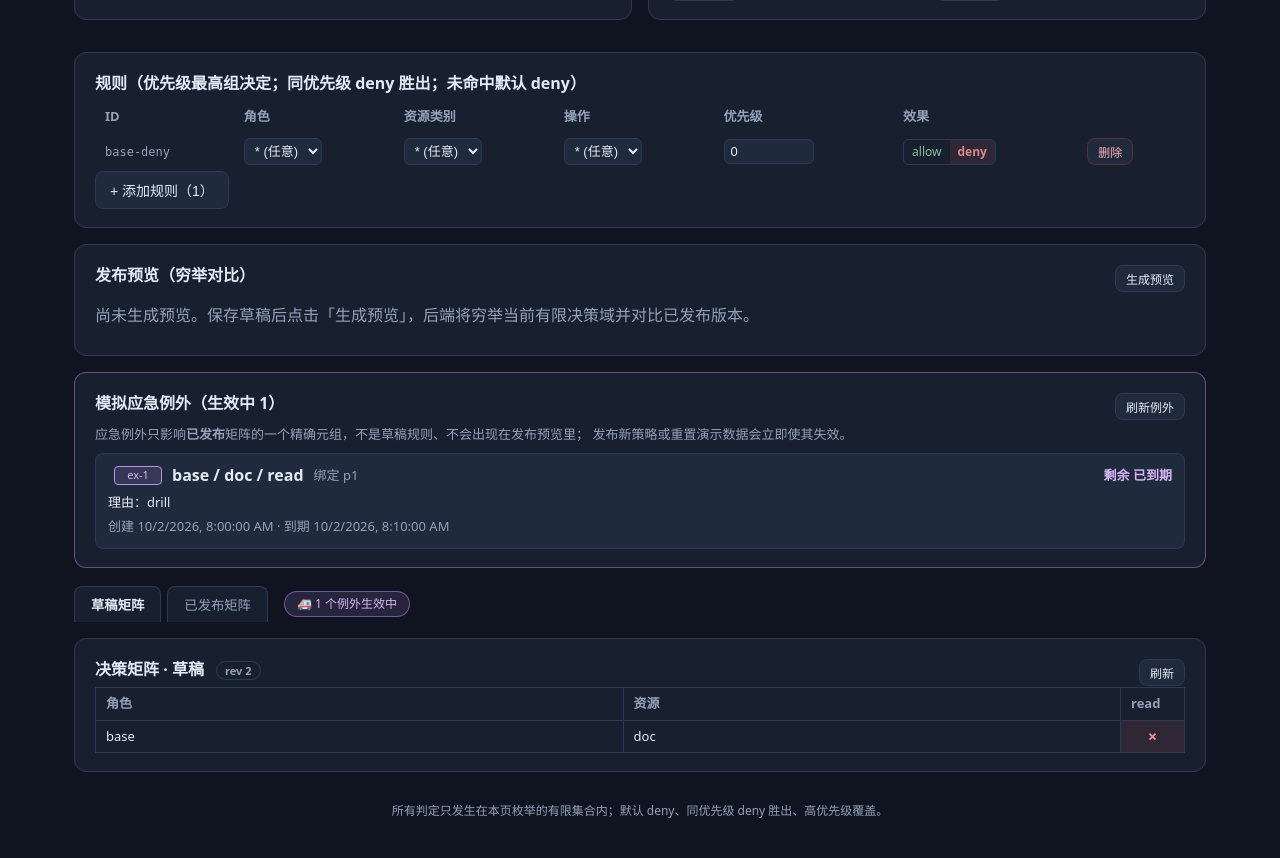
Test case: App — exception panel + matrix coherence › publishing a new policy immediately invalidates old exceptions
(page scrolled)
Click the button with class "tab" showing "已发布矩阵" at (218, 604), box [167,586,268,622]
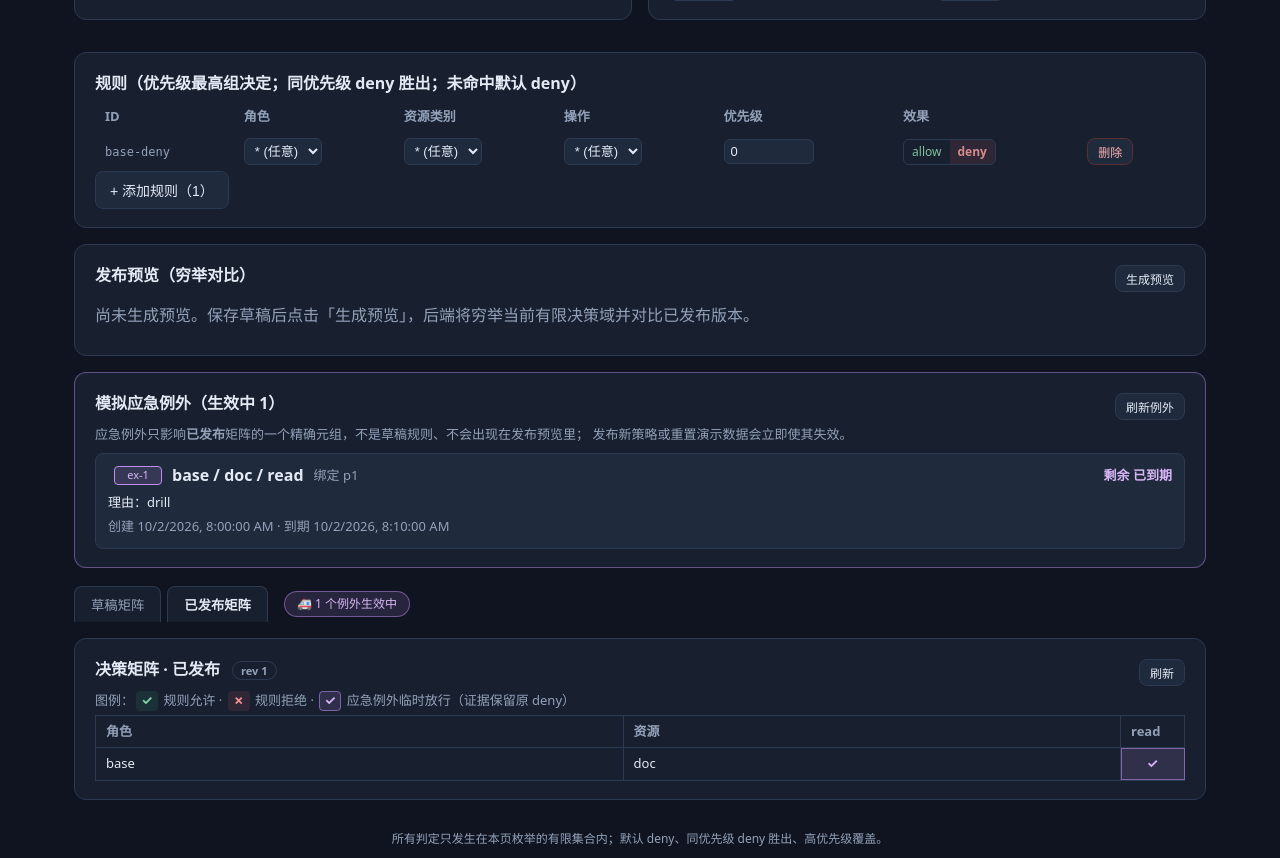
expect the cell with class "cell" has class "cell-exception": met, box [1120,748,1184,780]
// Generate a preview over the live (r2/p1) pair, then publish.
Click the button "生成预览" at (1150, 278), box [1115,264,1185,292]
(page scrolled)
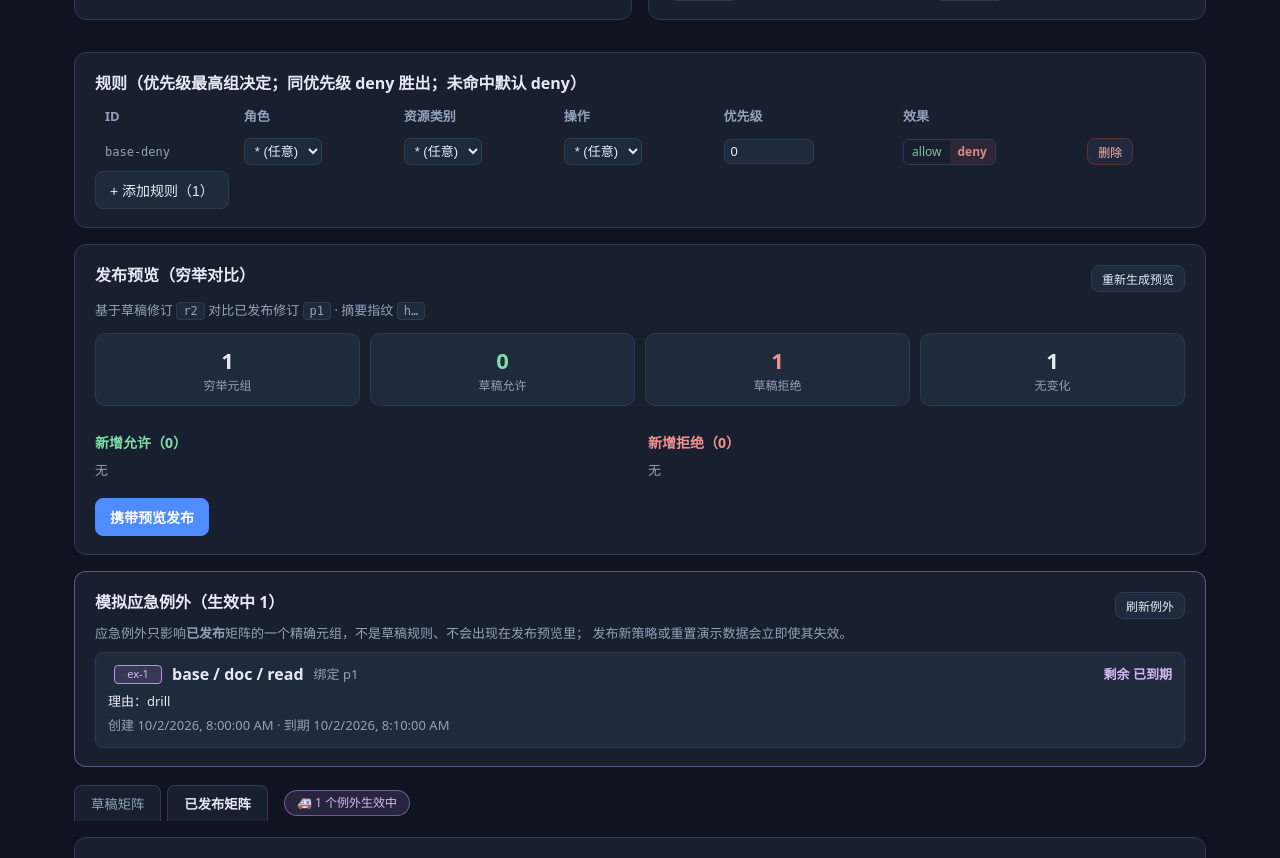
expect the button "携带预览发布" is enabled: met
Click the button "携带预览发布" at (152, 517), box [95,498,209,536]
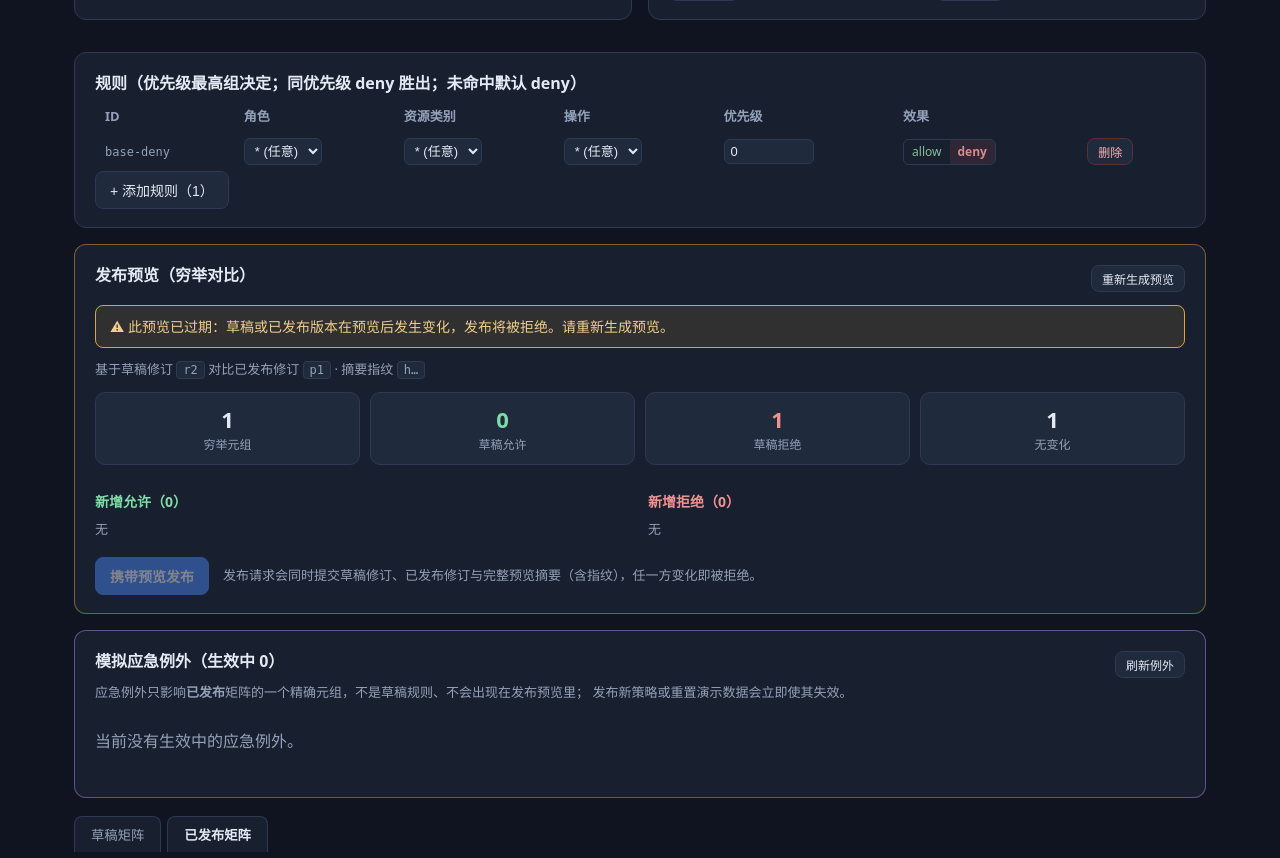
expect the element with class "exceptions-card" shows "没有生效中": met, box [95,730,303,752]
